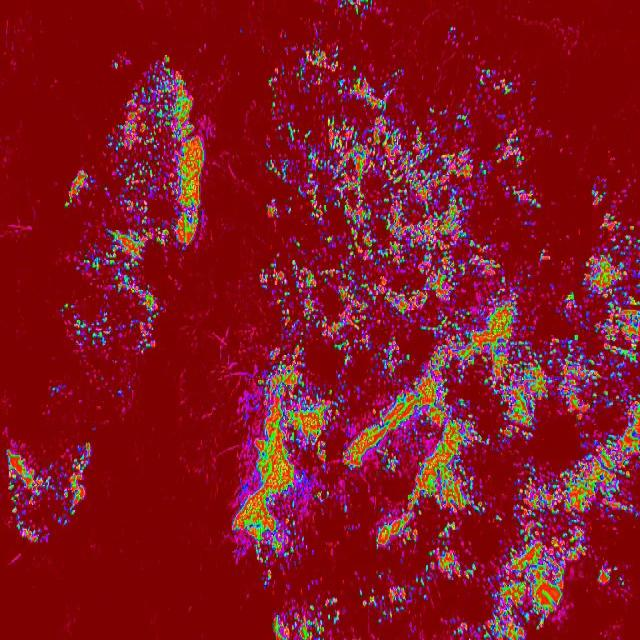fire: (238, 55, 542, 640), (542, 250, 640, 520), (114, 55, 212, 251), (65, 169, 157, 352), (0, 436, 90, 550), (541, 520, 591, 630), (590, 183, 640, 251), (332, 0, 381, 24), (596, 564, 618, 584)
